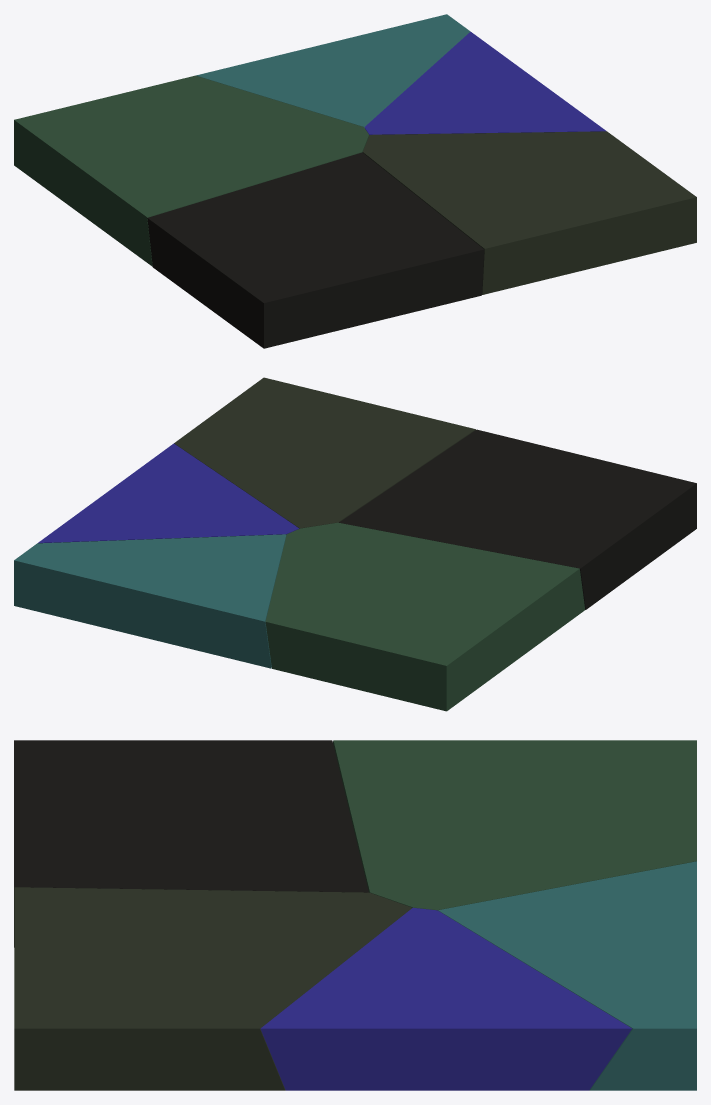
Rendered from Shattered_Ground.fbx.
The picture shows the model from 3 angles, top to bottom: view 1: azimuth 30°, elevation 25°; view 2: azimuth 150°, elevation 25°; view 3: azimuth 270°, elevation 25°; orthographic projection. The views are drawn at different scales.
Parts seen in each view (by area): view 1: Cube.001_cell.004; view 2: Cube.001_cell.004; view 3: Cube.001_cell.004.
Part boxes in pixels (<box>): Cube.001_cell.004: <box>14,14,696,348</box>; Cube.001_cell.004: <box>14,377,696,711</box>; Cube.001_cell.004: <box>14,740,696,1090</box>.
Bounding box in the file's own units: 200 × 20.21 × 200.
